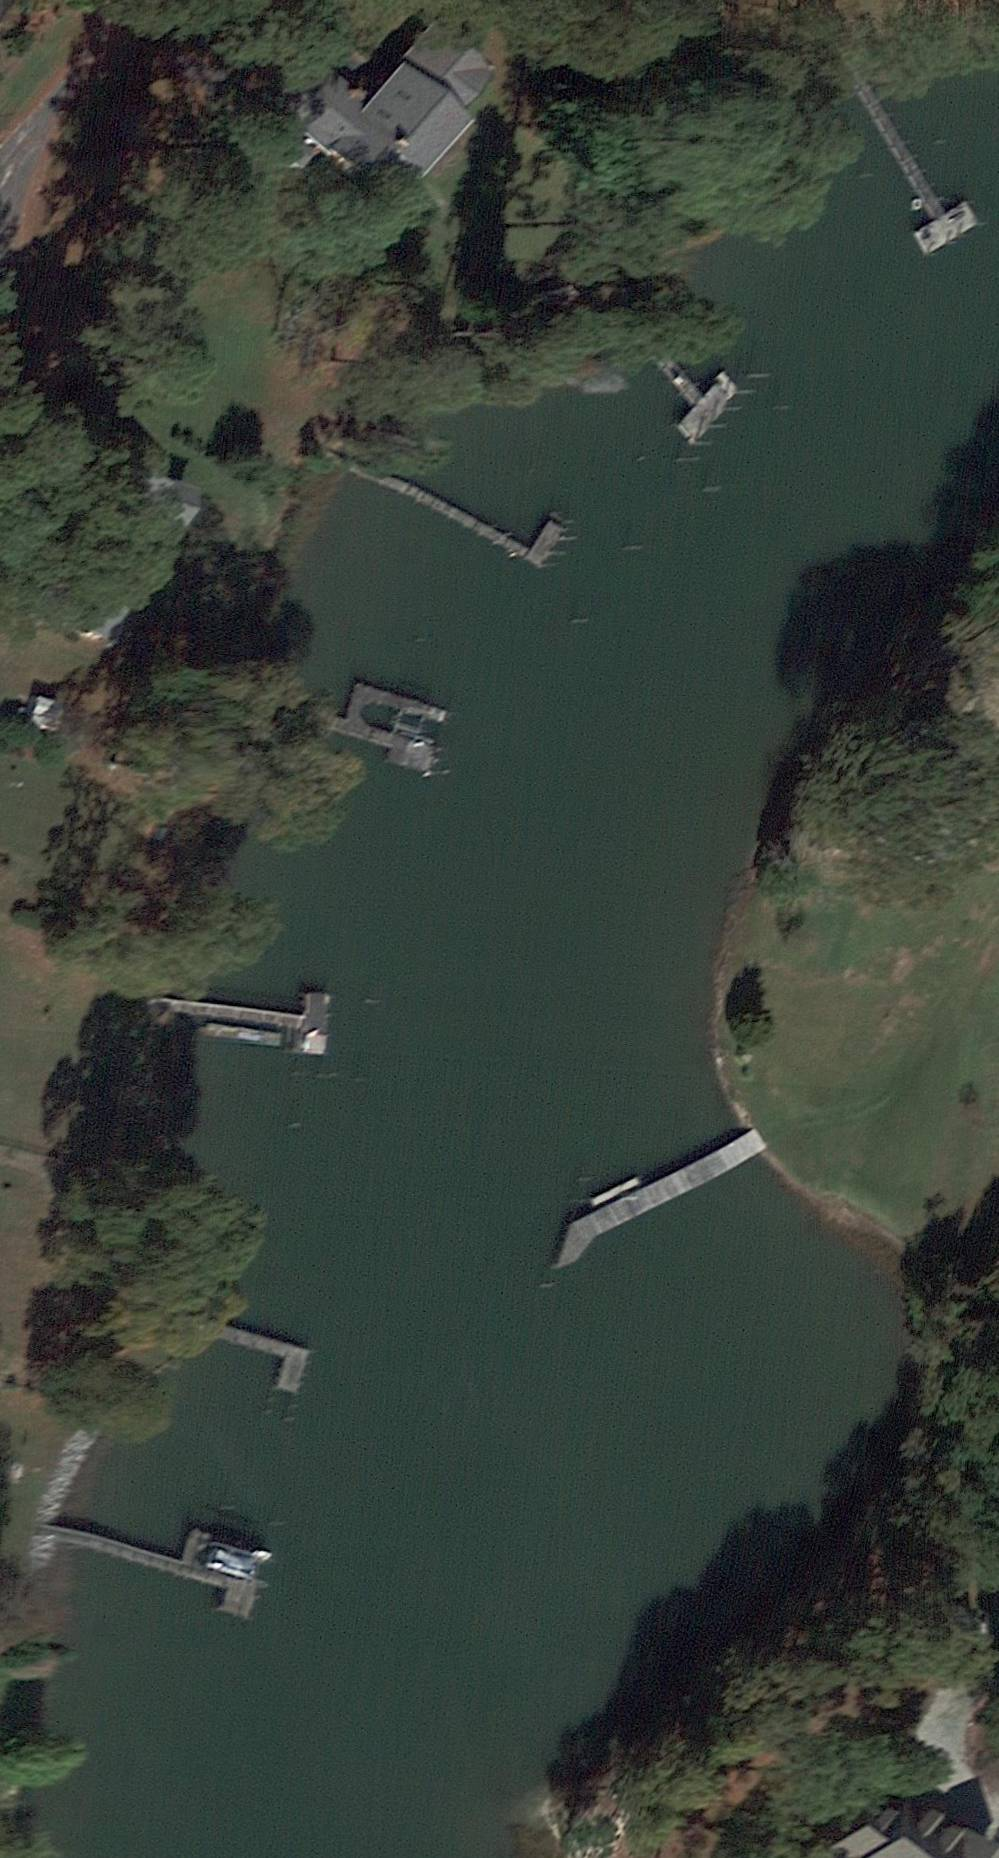harbor: (538, 1144, 749, 1274), (66, 1501, 273, 1622), (844, 81, 981, 259), (404, 457, 567, 571), (608, 314, 743, 448), (311, 676, 452, 776), (167, 980, 330, 1056), (189, 1319, 314, 1394)
